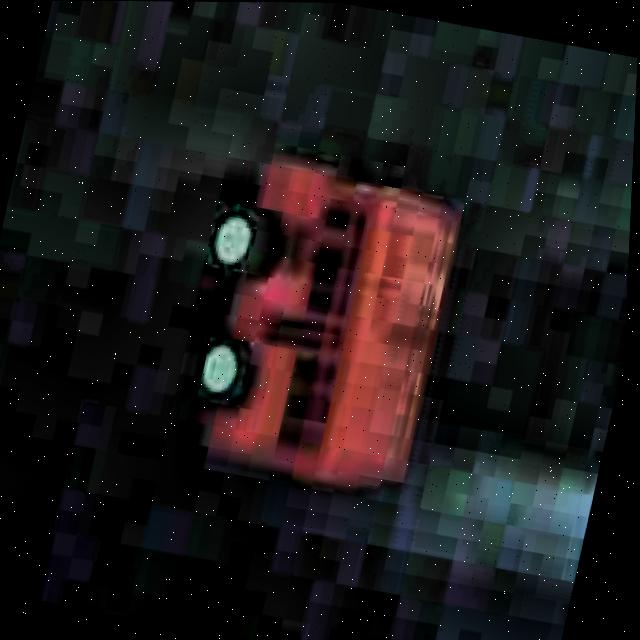bus: (155, 139, 478, 508)
